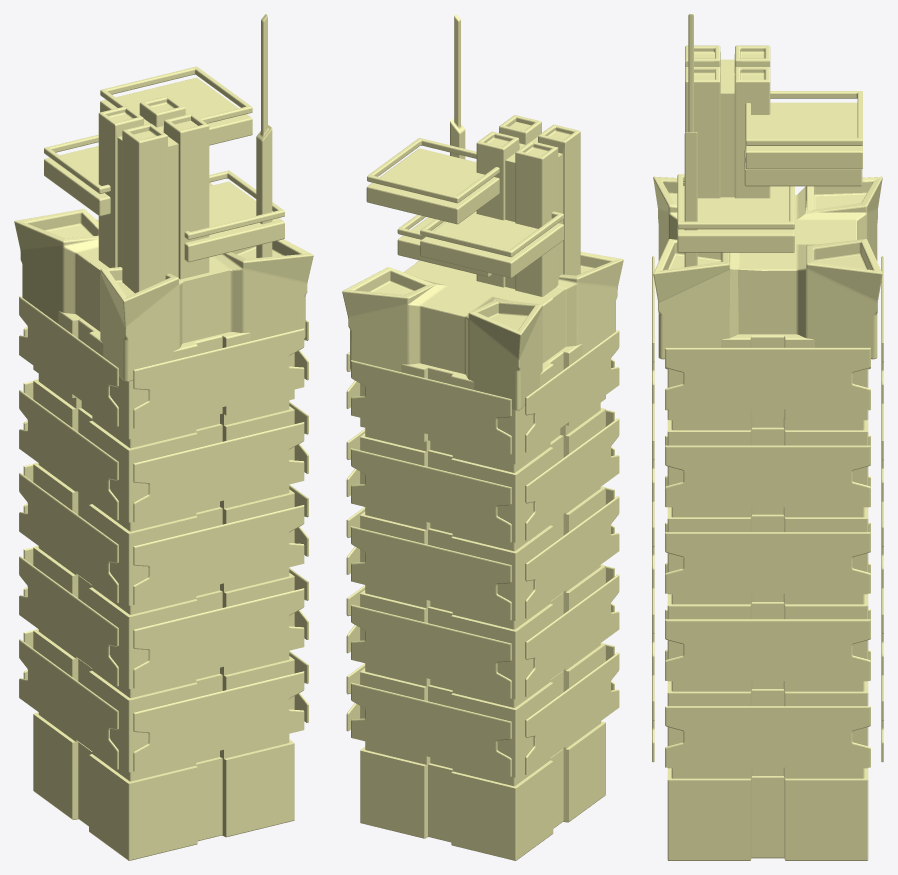
File: MangaKa Props - F_S_ScifiBuilding_18.glb
The picture shows the model from 3 angles, left to right: view 1: azimuth 30°, elevation 25°; view 2: azimuth 150°, elevation 25°; view 3: azimuth 270°, elevation 25°; orthographic projection. The views are drawn at different scales.
Visible parts, largest first — view 1: F_S_ScifiBuilding_18_blueScreen, F_S_ScifiBuilding_18003_blueScreen, F_S_ScifiBuilding_18002_blueScreen, F_S_ScifiBuilding_18001_blueScreen; view 2: F_S_ScifiBuilding_18_blueScreen, F_S_ScifiBuilding_18003_blueScreen, F_S_ScifiBuilding_18002_blueScreen, F_S_ScifiBuilding_18001_blueScreen; view 3: F_S_ScifiBuilding_18_blueScreen, F_S_ScifiBuilding_18003_blueScreen, F_S_ScifiBuilding_18002_blueScreen, F_S_ScifiBuilding_18001_blueScreen.
Part boxes in pixels (x1,y1,x2,y2): F_S_ScifiBuilding_18_blueScreen: (14,14,313,860); F_S_ScifiBuilding_18003_blueScreen: (19,296,308,771); F_S_ScifiBuilding_18002_blueScreen: (38,66,289,841); F_S_ScifiBuilding_18001_blueScreen: (26,80,301,296); F_S_ScifiBuilding_18_blueScreen: (342,14,623,860); F_S_ScifiBuilding_18003_blueScreen: (346,330,619,776); F_S_ScifiBuilding_18002_blueScreen: (365,138,600,842); F_S_ScifiBuilding_18001_blueScreen: (354,117,612,330); F_S_ScifiBuilding_18_blueScreen: (653,14,882,860); F_S_ScifiBuilding_18003_blueScreen: (652,256,883,767); F_S_ScifiBuilding_18002_blueScreen: (671,91,864,858); F_S_ScifiBuilding_18001_blueScreen: (662,47,873,270).
Bounding box in the file's own units: 5.43 × 21.66 × 5.43.
